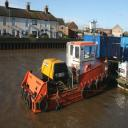tugboat: (21, 40, 115, 116)
